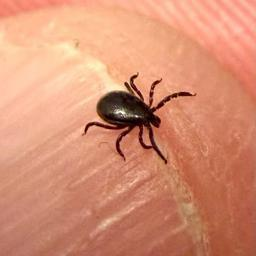Ixodes scapularis: (83, 73, 196, 164)
